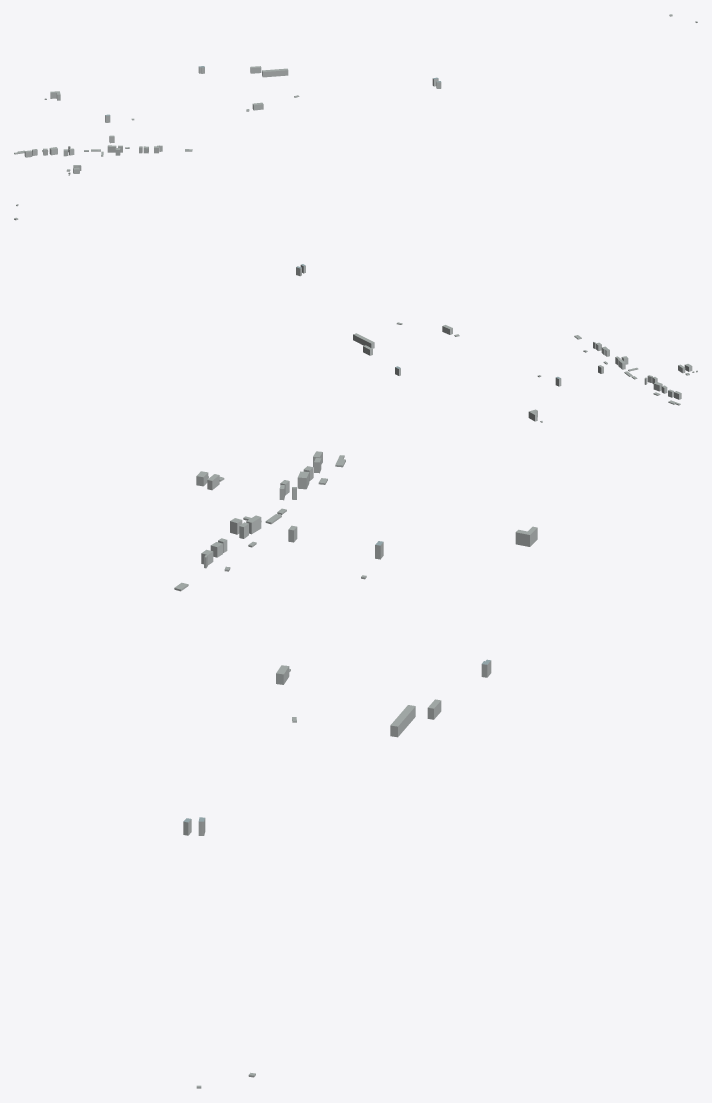
3 views of the same model, one above another, from view 1: azimuth 30°, elevation 25°; view 2: azimuth 150°, elevation 25°; view 3: azimuth 270°, elevation 25° (orthographic). The views are drawn at different scales.
Parts seen in each view (by area): view 1: 上海全域建筑分块 · mapped building neighborhood; view 2: 上海全域建筑分块 · mapped building neighborhood; view 3: 上海全域建筑分块 · mapped building neighborhood.
Boxes of the visible parts, bbox=[...] form: 上海全域建筑分块 · mapped building neighborhood: bbox=[14, 14, 697, 175]; 上海全域建筑分块 · mapped building neighborhood: bbox=[14, 204, 697, 422]; 上海全域建筑分块 · mapped building neighborhood: bbox=[174, 451, 537, 1088].
Bounding box in the file's own units: 1968 × 20.81 × 478.
